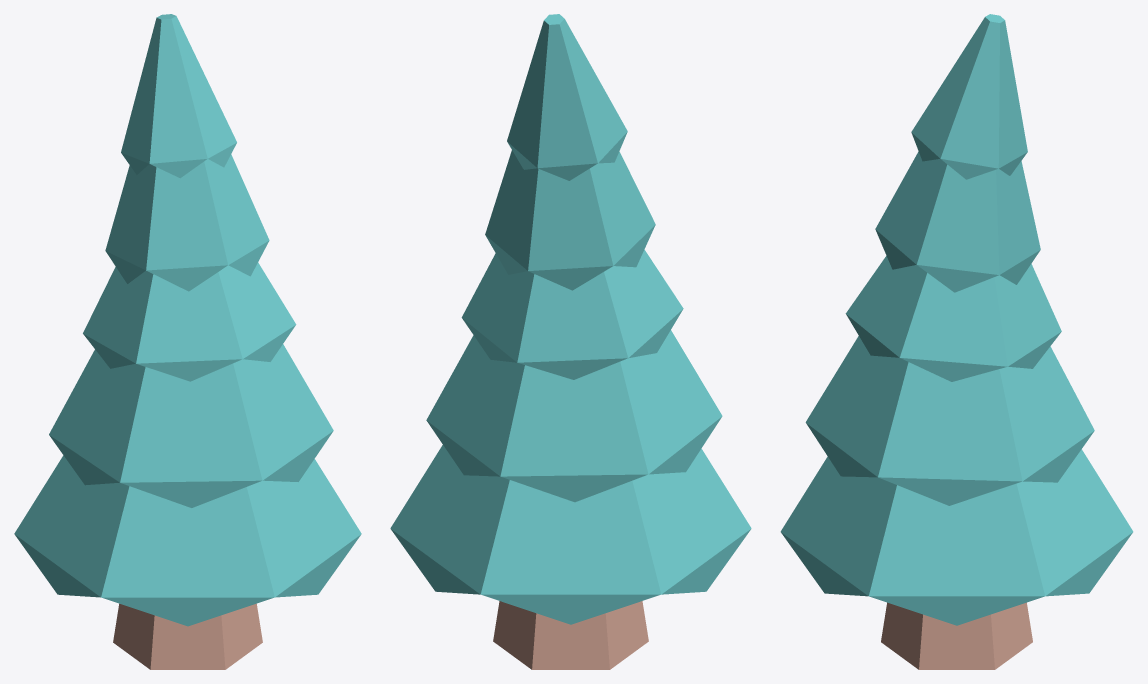
The model's file is tree_pineRoundD.glb.
3 views of the same model, side by side, from view 1: azimuth 30°, elevation 25°; view 2: azimuth 150°, elevation 25°; view 3: azimuth 270°, elevation 25° (orthographic). The views are drawn at different scales.
Parts seen in each view (by area): view 1: tree_pineRoundD; view 2: tree_pineRoundD; view 3: tree_pineRoundD.
Part boxes in pixels (bbox=[...]): tree_pineRoundD: bbox=[14, 14, 361, 669]; tree_pineRoundD: bbox=[390, 14, 751, 669]; tree_pineRoundD: bbox=[780, 14, 1133, 669].
Bounding box in the file's own units: 0.4804 × 1.08 × 0.5547.
